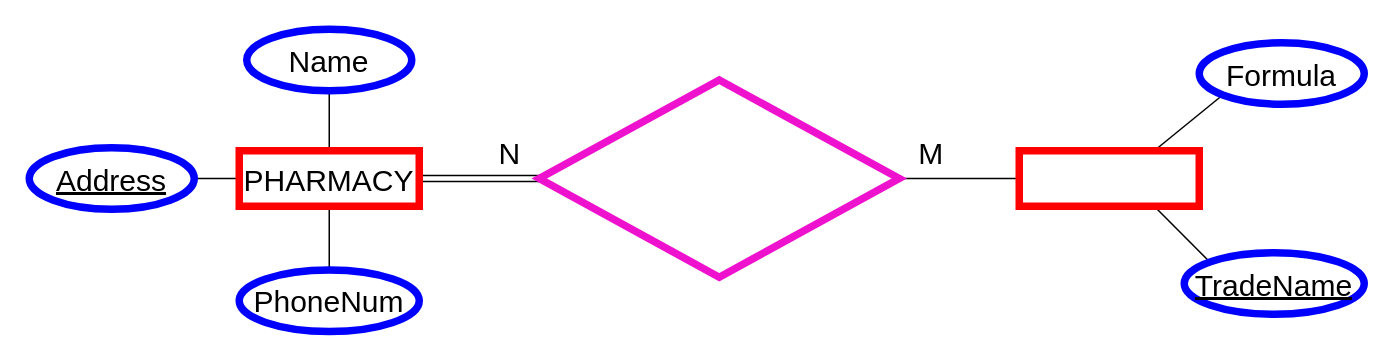
This 1394x362 diagram has some shape labels left out. Each missing label, with the box of its shape:
DRUG: (1015, 146, 1202, 209)
SELLS: (535, 75, 902, 280)
